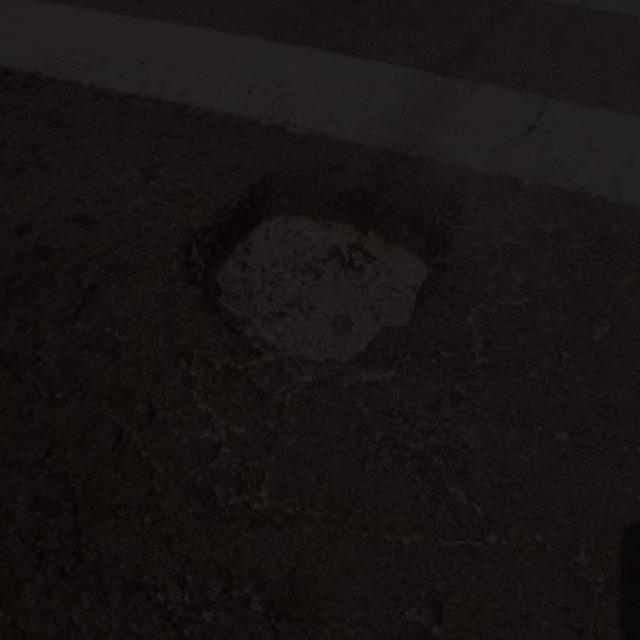Pothole: (176, 168, 448, 382)
